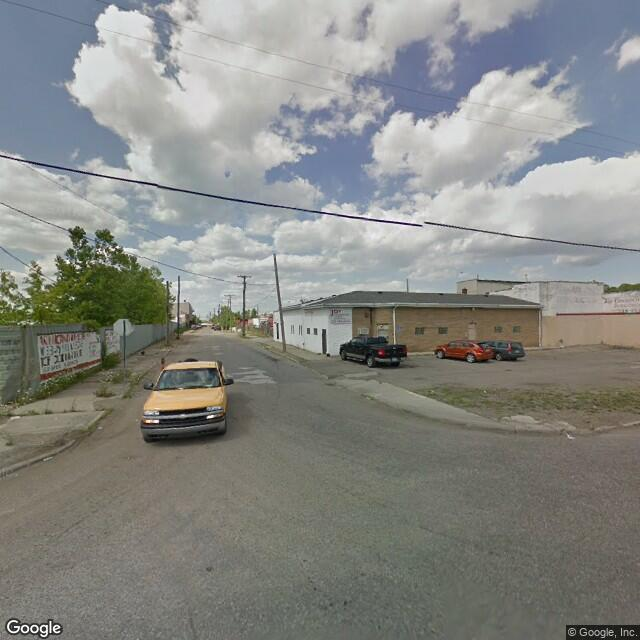litter: (561, 430, 580, 442), (7, 411, 23, 423)
